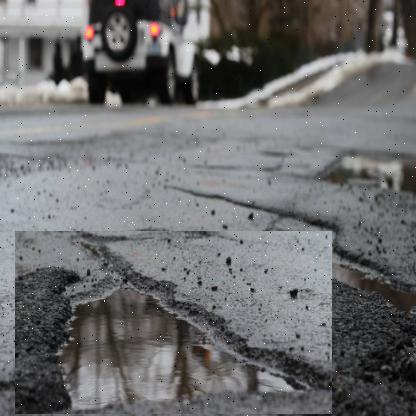pothole_water: (14, 231, 332, 415)
